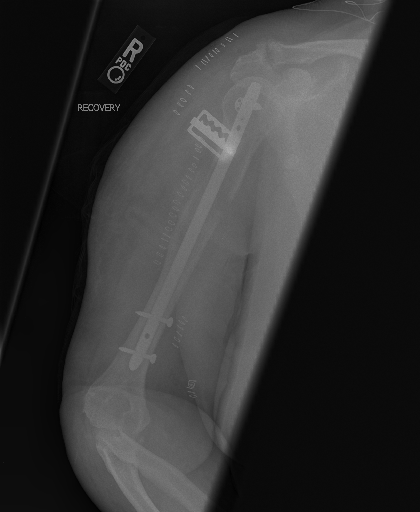implant: (107, 290, 185, 378), (183, 102, 246, 162), (218, 68, 274, 135)
